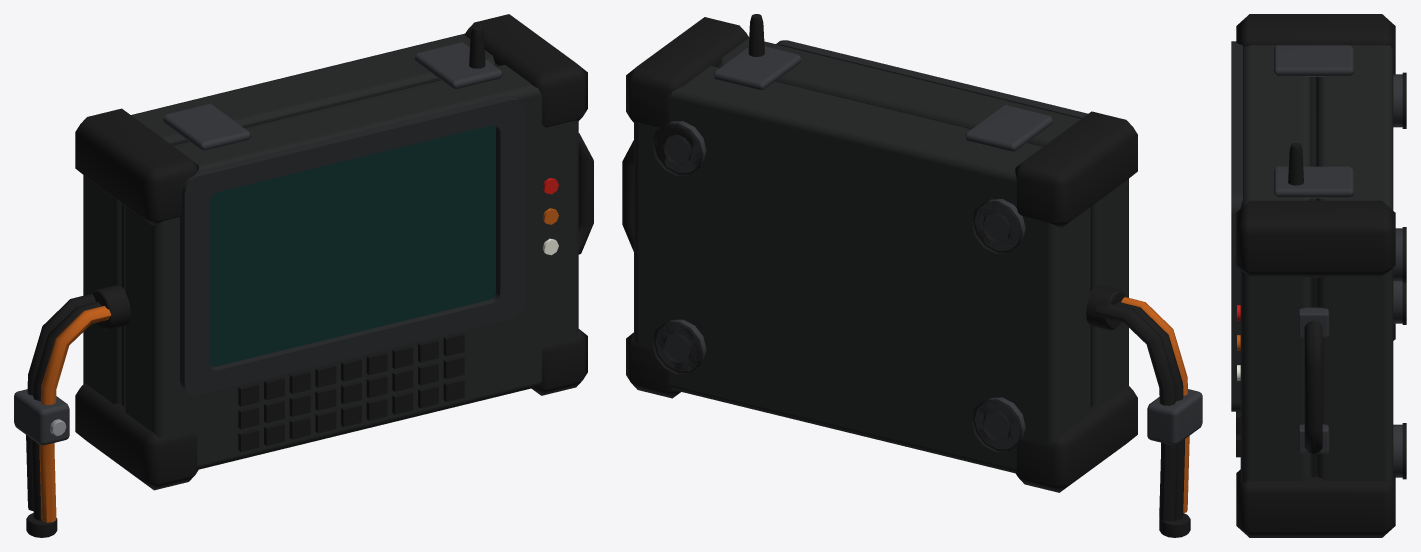
Rendered from hackmodule.glb.
The picture shows the model from 3 angles, left to right: view 1: azimuth 30°, elevation 25°; view 2: azimuth 150°, elevation 25°; view 3: azimuth 270°, elevation 25°; orthographic projection.
Parts seen in each view (by area): view 1: Body; view 2: Body; view 3: Body.
Boxes of the visible parts, box(x1,y1,x2,y2) form: Body: box(14, 14, 593, 537); Body: box(622, 14, 1202, 537); Body: box(1231, 14, 1406, 537).
Bounding box in the file's own units: 0.5854 × 0.402 × 0.1585.
